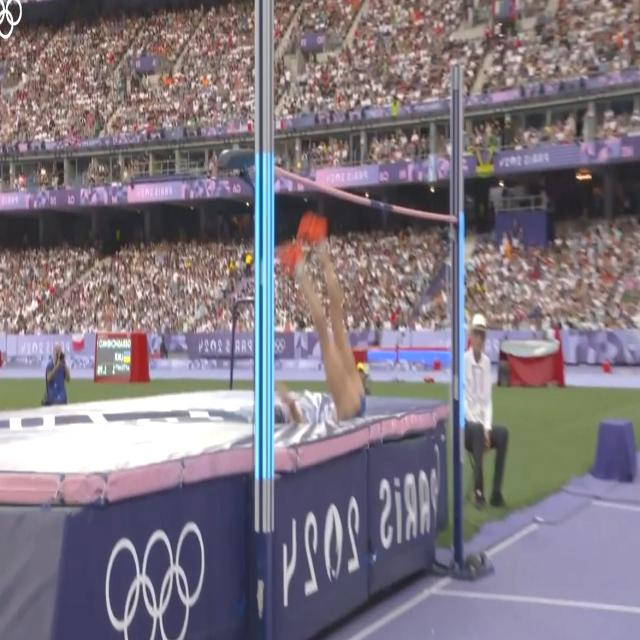land: (280, 215, 365, 428)
